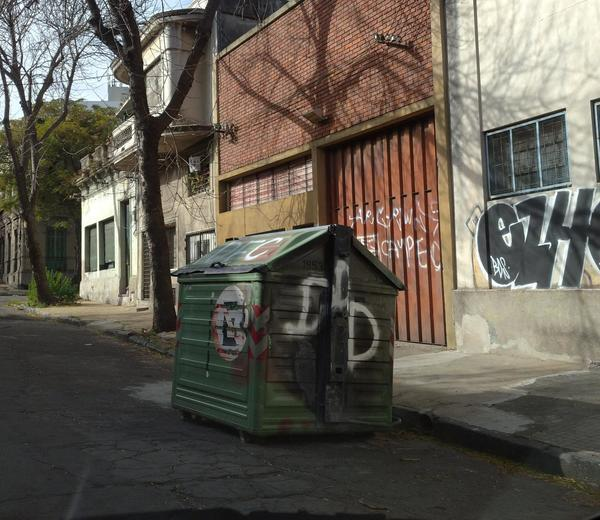Trash: (171, 225, 404, 439)
